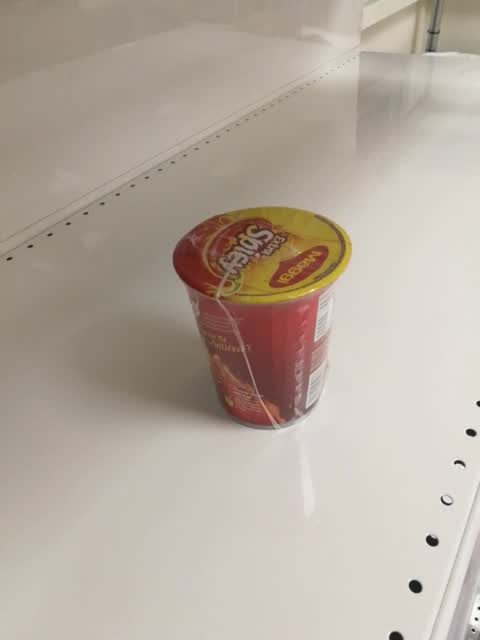maggi: (171, 205, 356, 432)
